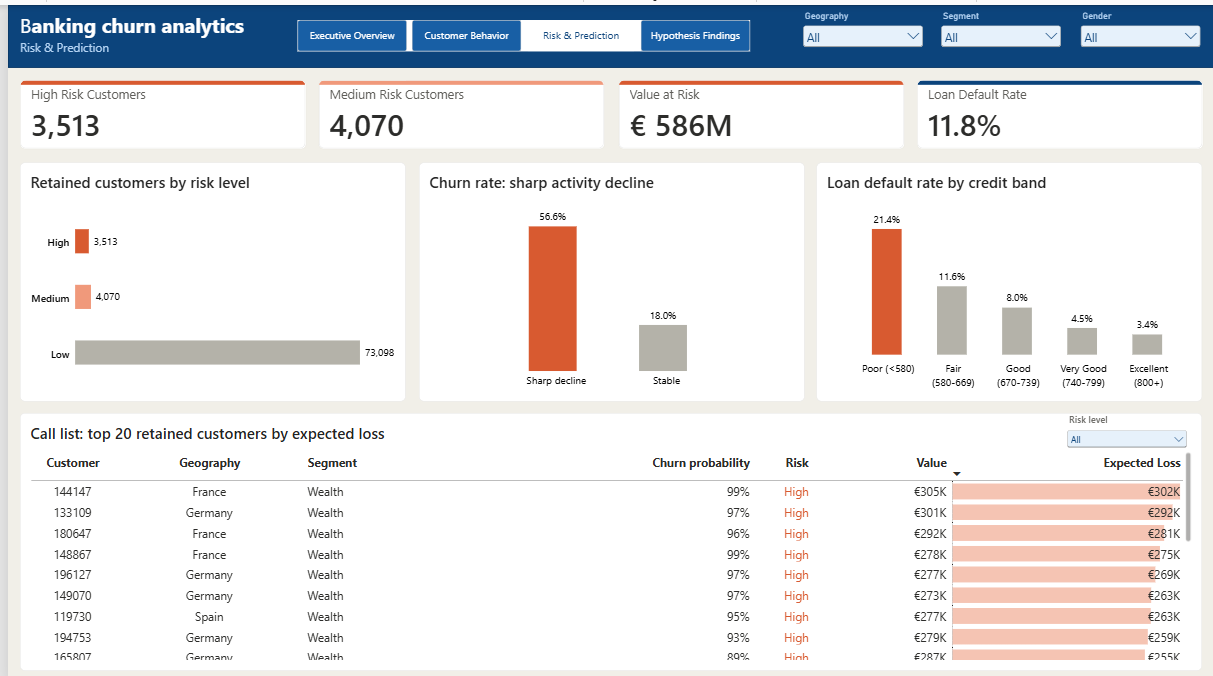

The dashboard page shown, as its layout file describes it:
{"tool":"powerbi","page":{"name":"Risk & Prediction","canvas":[1920,1080],"ordinal":2},"visuals":[{"type":"shape","box":[0,0,1920,100],"z":0},{"type":"textbox","box":[20,10,400,45],"z":1000},{"type":"textbox","box":[20,55,400,35],"z":2000},{"type":"pageNavigator","box":[460,25,720,50],"z":3000},{"type":"slicer","fields":{"Values":["bank_analytics vw_customers.geography"]},"box":[1260,10,200,79],"z":4000},{"type":"slicer","fields":{"Values":["bank_analytics vw_customers.segment"]},"box":[1480,10,200,80],"z":5000},{"type":"slicer","fields":{"Values":["bank_analytics vw_customers.gender"]},"box":[1700,10,200,80],"z":6000},{"type":"cardVisual","fields":{"Data":["page 3 measures.High Risk Customers"]},"box":[20,120,455,110],"z":7000},{"type":"cardVisual","fields":{"Data":["page 3 measures.Medium Risk Customers"]},"box":[495,120,455,110],"z":8000},{"type":"cardVisual","fields":{"Data":["page 3 measures.Value at Risk"]},"box":[970,120,455,110],"z":9000},{"type":"cardVisual","fields":{"Data":["page 3 measures.Loan Default Rate"]},"box":[1445,120,455,110],"z":10000},{"type":"clusteredBarChart","title":"Retained customers by risk level","fields":{"Category":["bank_analytics vw_customers.risk_level"],"Y":["new_measures.Retained_customer"]},"box":[20,250,613,380],"z":11000},{"type":"clusteredColumnChart","title":"Loan default rate by credit band","fields":{"Category":["bank_analytics vw_customers.score_band"],"Y":["page 3 measures.Loan Default Rate"]},"box":[1286,250,613,380],"z":12000},{"type":"clusteredColumnChart","title":"Churn rate: sharp activity decline","fields":{"Category":["bank_analytics vw_customers.activity_trend"],"Y":["new_measures.Churn Rate"]},"box":[653,250,613,380],"z":13000},{"type":"tableEx","title":"Call list: top 20 retained customers by expected loss","fields":{"Values":["bank_analytics vw_customers.customer_id","bank_analytics vw_customers.geography","bank_analytics vw_customers.segment","bank_analytics vw_customers.churn_probability","bank_analytics vw_customers.risk_level","bank_analytics vw_customers.Value K","bank_analytics vw_customers.Expected Loss K"]},"box":[20,650,1880,410],"z":14000},{"type":"slicer","fields":{"Values":["bank_analytics vw_customers.risk_level"]},"box":[1679.7,649,200,57],"z":15500}]}

Visuals, with their boxes in screenshot pixels (x1, y1, x2, y2), scaled from the page's 1920x1080 canvas onto the 1213x676 screenshot:
shape: x1=0 y1=0 x2=1212 y2=63
textbox: x1=13 y1=6 x2=265 y2=34
textbox: x1=13 y1=34 x2=265 y2=56
pageNavigator: x1=291 y1=16 x2=745 y2=47
slicer - bank_analytics vw_customers.geography: x1=796 y1=6 x2=922 y2=56
slicer - bank_analytics vw_customers.segment: x1=935 y1=6 x2=1061 y2=56
slicer - bank_analytics vw_customers.gender: x1=1074 y1=6 x2=1200 y2=56
cardVisual - page 3 measures.High Risk Customers: x1=13 y1=75 x2=300 y2=144
cardVisual - page 3 measures.Medium Risk Customers: x1=313 y1=75 x2=600 y2=144
cardVisual - page 3 measures.Value at Risk: x1=613 y1=75 x2=900 y2=144
cardVisual - page 3 measures.Loan Default Rate: x1=913 y1=75 x2=1200 y2=144
"Retained customers by risk level" clusteredBarChart: x1=13 y1=156 x2=400 y2=394
"Loan default rate by credit band" clusteredColumnChart: x1=812 y1=156 x2=1200 y2=394
"Churn rate: sharp activity decline" clusteredColumnChart: x1=413 y1=156 x2=800 y2=394
"Call list: top 20 retained customers by expected loss" tableEx: x1=13 y1=407 x2=1200 y2=663
slicer - bank_analytics vw_customers.risk_level: x1=1061 y1=406 x2=1188 y2=442
